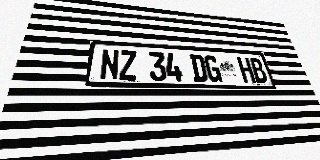3: (149, 52, 167, 81)
4: (165, 53, 183, 82)
B: (249, 58, 268, 83)
D: (189, 54, 208, 82)
G: (203, 55, 222, 82)
H: (237, 57, 256, 83)
N: (99, 49, 119, 80)
Z: (119, 50, 137, 81)
